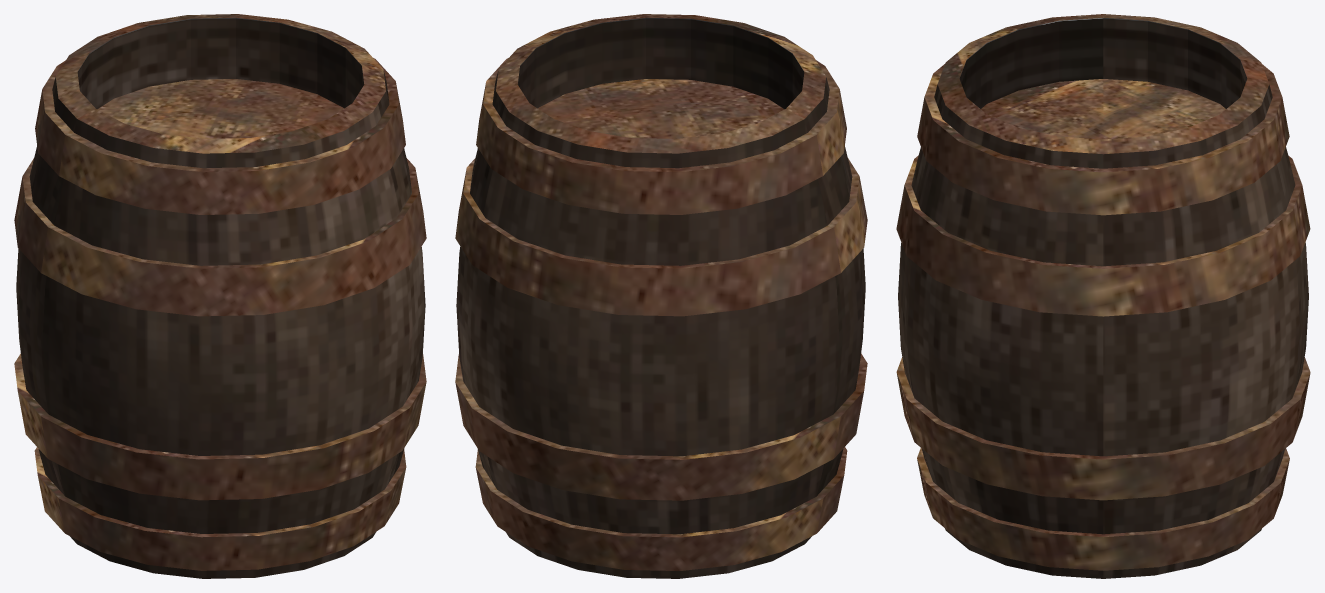
The model's file is Barril madera.fbx.
3 renders of one model, left to right at view 1: azimuth 30°, elevation 25°; view 2: azimuth 150°, elevation 25°; view 3: azimuth 270°, elevation 25°, orthographic.
Visible parts, largest first — view 1: pCylinder16; view 2: pCylinder16; view 3: pCylinder16.
Boxes of the visible parts, bbox=[...] form: pCylinder16: bbox=[14, 14, 426, 578]; pCylinder16: bbox=[455, 14, 867, 578]; pCylinder16: bbox=[896, 14, 1310, 578].
Size of the model in its own units: 10.48 by 12.02 by 10.49.
